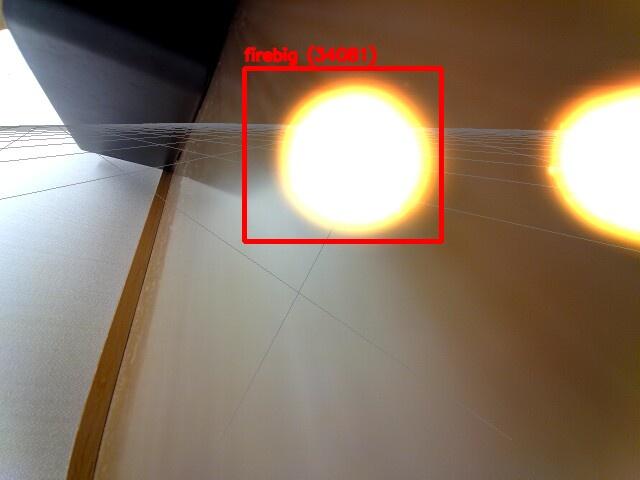firebig: (244, 68, 441, 241)
